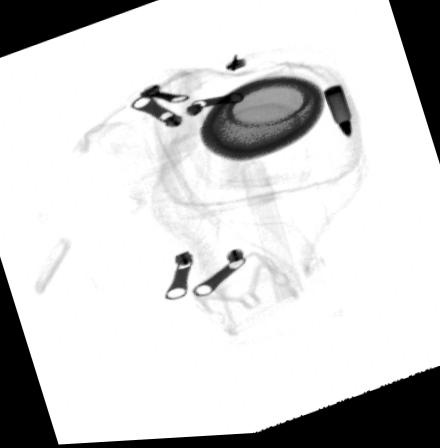Bullet: (321, 86, 354, 144)
